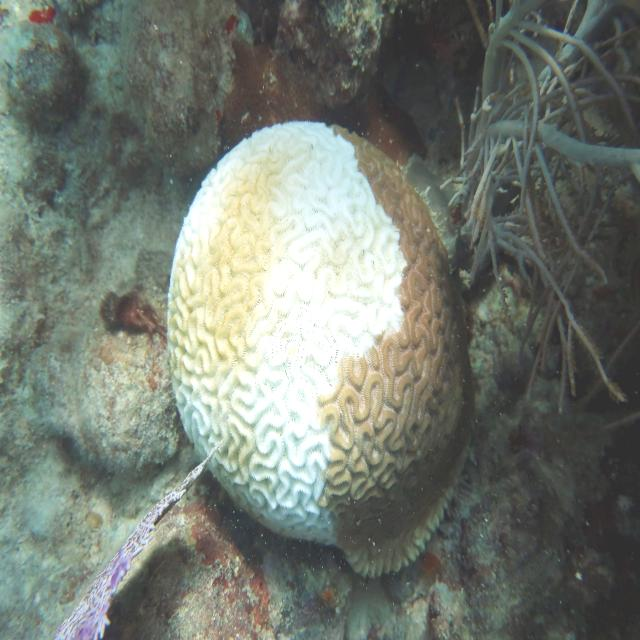Coral: (166, 119, 475, 579), (54, 434, 227, 640)
